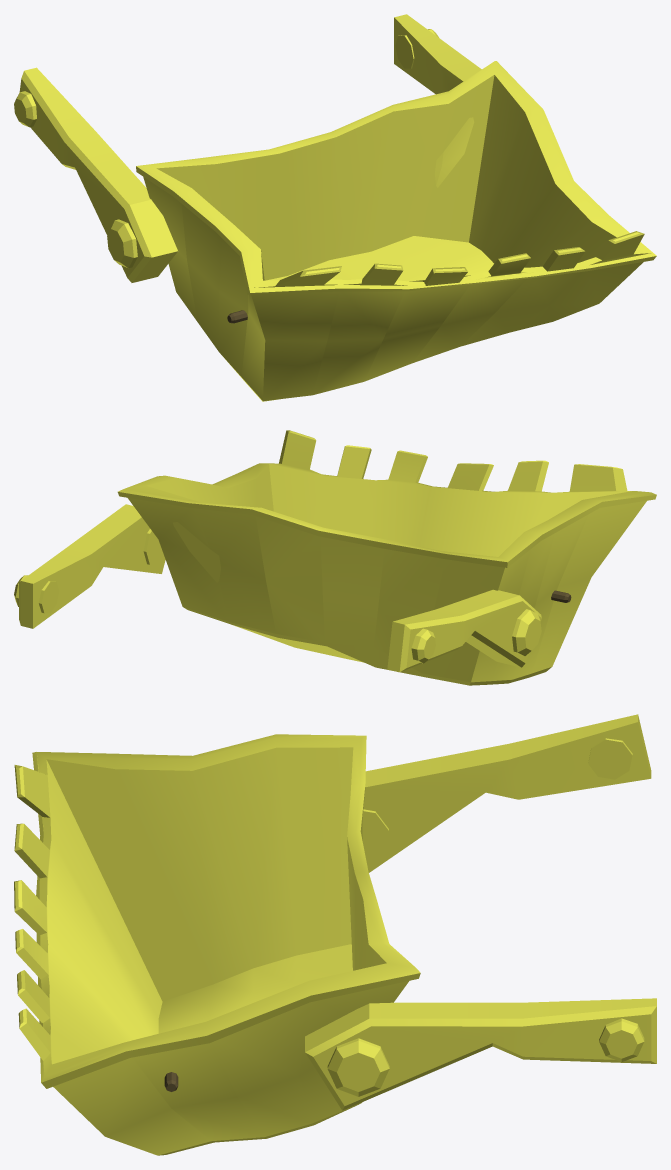
The model's file is Scoop.fbx.
3 views of the same model, one above another, from view 1: azimuth 30°, elevation 25°; view 2: azimuth 150°, elevation 25°; view 3: azimuth 270°, elevation 25° (orthographic). The views are drawn at different scales.
Visible parts, largest first — view 1: pCube13, pCube14, pCube15, pCylinder67, pCylinder68; view 2: pCube13, pCube15, pCube14, pCylinder67, pCylinder68, pCylinder69, pCylinder70; view 3: pCube13, pCube15, pCube14, pCylinder70, pCylinder69, pCylinder68, pCylinder67.
Boxes of the visible parts, x1,y1,x2,y2 form: pCube13: (136,61,656,401); pCube14: (19,67,177,282); pCube15: (394,14,481,94); pCylinder67: (107,219,137,268); pCylinder68: (14,91,36,127); pCube13: (117,430,656,685); pCube15: (19,504,165,628); pCube14: (387,589,541,672); pCylinder67: (512,609,541,656); pCylinder68: (411,628,435,663); pCylinder69: (14,575,59,613); pCylinder70: (143,529,164,564); pCube13: (14,734,420,1155); pCube15: (305,998,656,1110); pCube14: (363,714,651,872); pCylinder70: (327,1038,389,1096); pCylinder69: (599,1018,644,1062); pCylinder68: (588,738,632,779); pCylinder67: (362,809,388,862).
Size of the model in its own units: 8.33 by 3.78 by 8.64.
